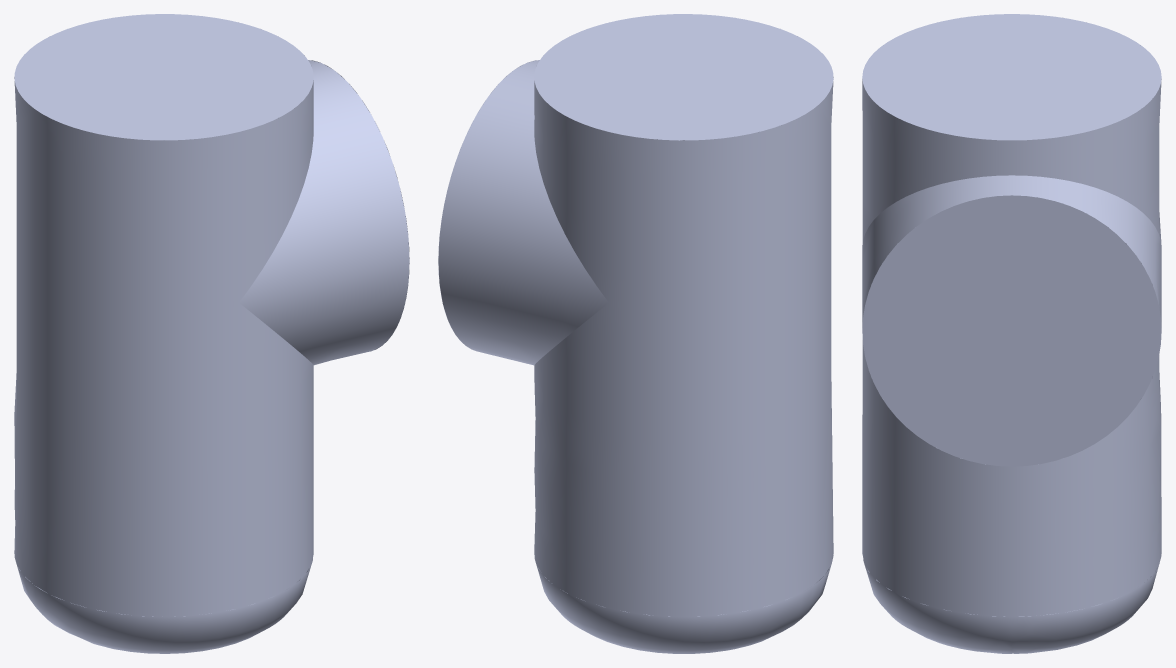
Rendered from joint_j25.glb.
The picture shows the model from 3 angles, left to right: view 1: azimuth 30°, elevation 25°; view 2: azimuth 150°, elevation 25°; view 3: azimuth 270°, elevation 25°; orthographic projection.
Parts seen in each view (by area): view 1: joint_j25.IGS (×6); view 2: joint_j25.IGS (×6); view 3: joint_j25.IGS (×7).
Part boxes in pixels (<box>): joint_j25.IGS (×6): <box>14,14,409,653</box>; joint_j25.IGS (×6): <box>438,14,833,653</box>; joint_j25.IGS (×7): <box>862,14,1161,653</box>.
Bounding box in the file's own units: 0.161 × 0.274 × 0.139.
